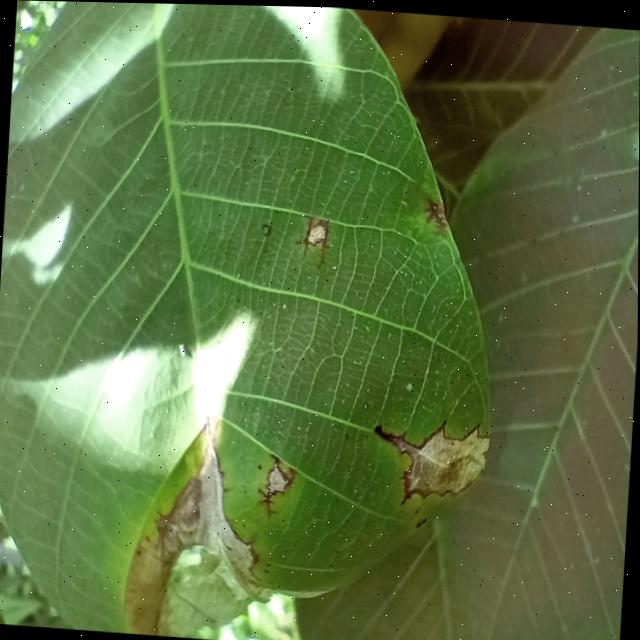Corynespora: (256, 452, 299, 520), (293, 212, 331, 271), (371, 422, 418, 457), (423, 195, 449, 235)
Leaf-Blight: (123, 432, 280, 640), (398, 421, 490, 496), (268, 467, 289, 492), (307, 224, 325, 242)
